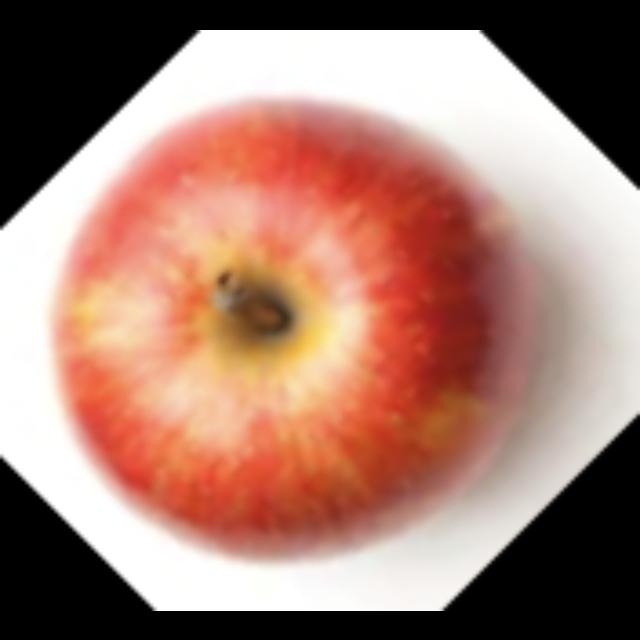Apel Segar: (49, 96, 550, 560)
